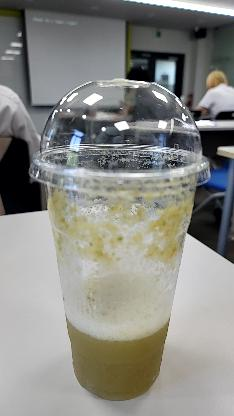Plastic Cup: (27, 77, 211, 403)
